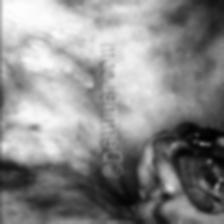Unclassified: (140, 120, 224, 224), (0, 152, 39, 194)
